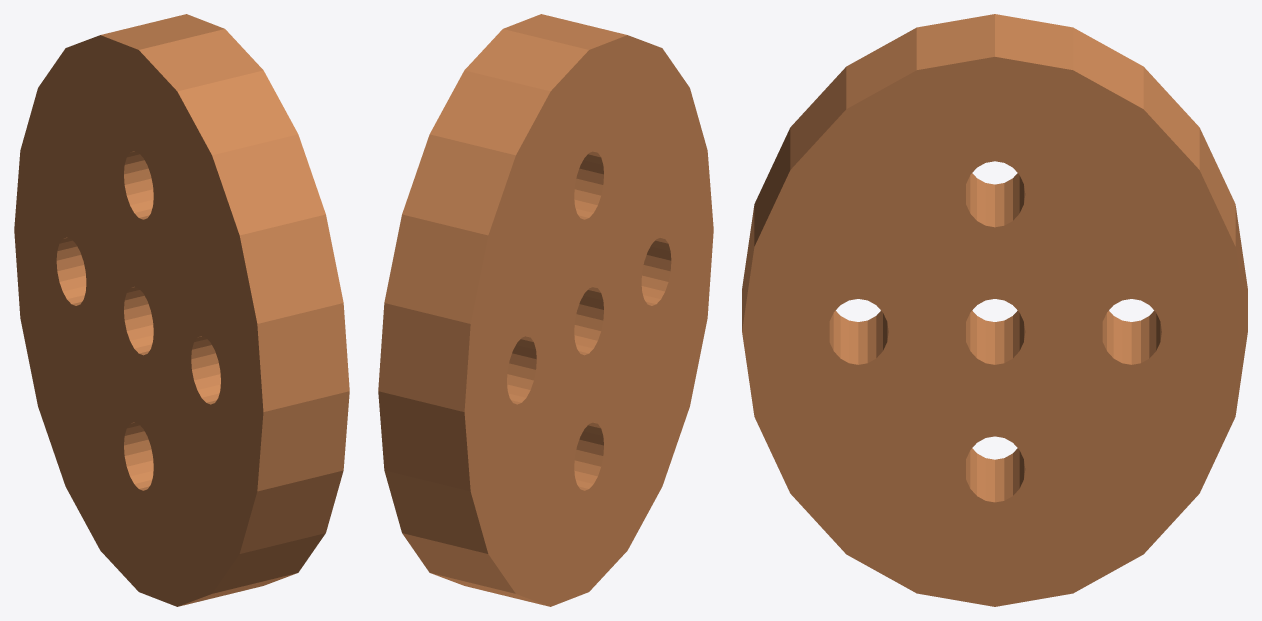
The model's file is seamElec.glb.
3 views of the same model, side by side, from view 1: azimuth 30°, elevation 25°; view 2: azimuth 150°, elevation 25°; view 3: azimuth 270°, elevation 25° (orthographic).
Parts seen in each view (by area): view 1: Mesh_Mesh_head_geo.001_lambert2SG.001; view 2: Mesh_Mesh_head_geo.001_lambert2SG.001; view 3: Mesh_Mesh_head_geo.001_lambert2SG.001.
Part boxes in pixels (x1=…): Mesh_Mesh_head_geo.001_lambert2SG.001: x1=14, y1=14, x2=349, y2=606; Mesh_Mesh_head_geo.001_lambert2SG.001: x1=378, y1=14, x2=713, y2=606; Mesh_Mesh_head_geo.001_lambert2SG.001: x1=742, y1=14, x2=1247, y2=606.
Size of the model in its own units: 5 by 30 by 25.
